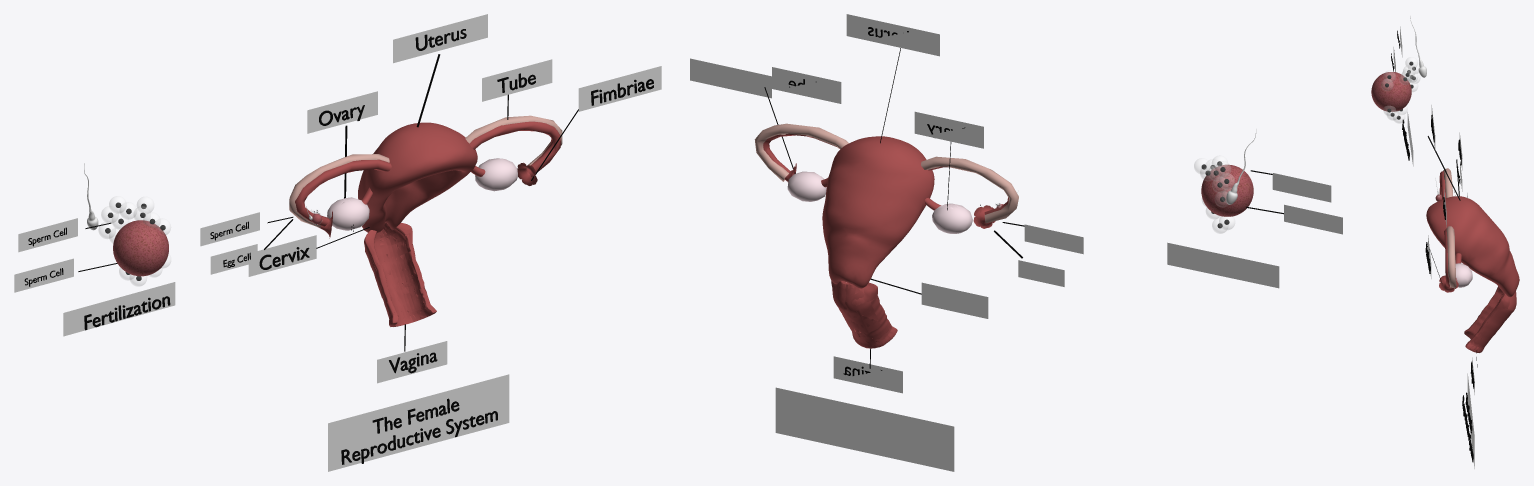
The model's file is fertilization.gltf.
3 renders of one model, left to right at view 1: azimuth 30°, elevation 25°; view 2: azimuth 150°, elevation 25°; view 3: azimuth 270°, elevation 25°, orthographic. The views are drawn at different scales.
Visible parts, largest first — view 1: Plane.064, WOMB.003, Object_2.044, Plane.048, OVARIES.003, Plane.057, Object_7.003, Text.033, Plane.053, Object_6.004, Plane.055, Plane.063 (+13 smaller); view 2: WOMB.003, Plane.064, Plane.048, Plane.057, OVARIES.003, Object_2.044, Plane.053, Plane.055, Plane.063, Plane.059, Plane.061, TUBE_L.006 (+8 smaller); view 3: WOMB.003, Object_2.044, Object_4.003, TUBE_R.006, Object_6.004, OVARIES.003, Text.033, Object_5.003, Plane.064, TUBE_L.006, TUBE_R.007, Sperm_Sperm_0.003.
Boxes of the visible parts, x1,y1,x2,y2 form: Plane.064: (328,374,509,471); WOMB.003: (358,122,477,232); Object_2.044: (113,220,168,276); Plane.048: (63,282,175,336); OVARIES.003: (327,158,517,230); Plane.057: (393,14,487,63); Object_7.003: (378,223,436,326); Text.033: (341,398,497,464); Plane.053: (578,66,661,111); Object_6.004: (365,222,436,326); Plane.055: (482,59,552,101); Plane.063: (307,91,377,133); WOMB.003: (822,136,934,288); Plane.064: (775,387,954,471); Plane.048: (1167,242,1279,288); Plane.057: (846,14,939,56); OVARIES.003: (787,171,972,233); Object_2.044: (1201,164,1253,216); Plane.053: (690,58,771,98); Plane.055: (772,67,841,103); Plane.063: (914,111,983,148); Plane.059: (921,282,988,318); Plane.061: (833,356,902,393); TUBE_L.006: (921,156,1018,223); WOMB.003: (1426,196,1519,297); Object_2.044: (1371,72,1411,111); Object_4.003: (1464,286,1516,352); TUBE_R.006: (1446,226,1456,288); Object_6.004: (1465,294,1515,352); OVARIES.003: (1455,263,1472,287); Text.033: (1462,392,1473,462); Object_5.003: (1464,291,1515,352); Plane.064: (1467,373,1474,468); TUBE_L.006: (1443,168,1452,197); TUBE_R.007: (1444,229,1449,286); Sperm_Sperm_0.003: (1410,16,1426,77).
Bounding box in the file's own units: 9.14 × 5.72 × 2.43.
15 materials, 2 textured.
